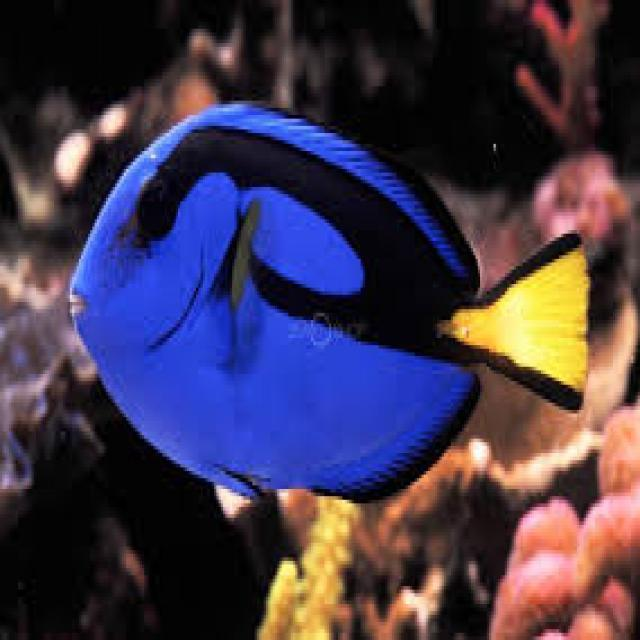TangFish: (65, 93, 593, 505)
